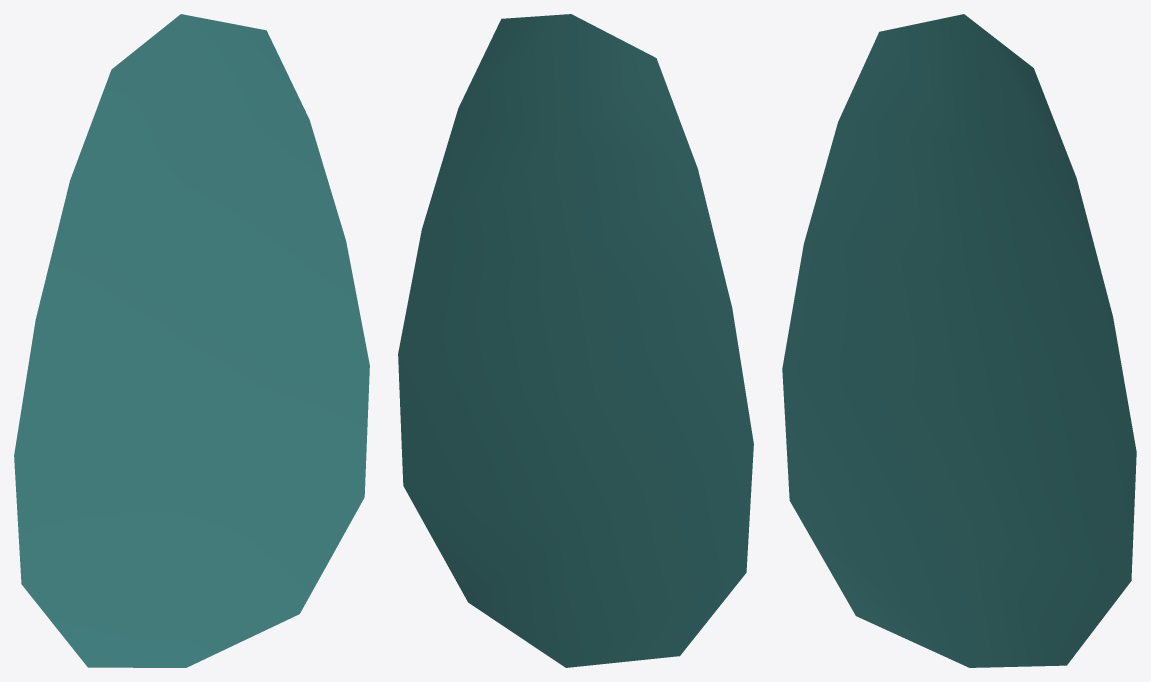
File: budgie_feather_flight_tertiary_043.obj
The picture shows the model from 3 angles, left to right: view 1: azimuth 30°, elevation 25°; view 2: azimuth 150°, elevation 25°; view 3: azimuth 330°, elevation 25°; orthographic projection.
Visible parts, largest first — view 1: feather_flight_tertiary_043; view 2: feather_flight_tertiary_043; view 3: feather_flight_tertiary_043.
Boxes of the visible parts, x1,y1,x2,y2 form: feather_flight_tertiary_043: (14, 14, 369, 667); feather_flight_tertiary_043: (398, 14, 753, 667); feather_flight_tertiary_043: (782, 14, 1136, 667).
Bounding box in the file's own units: 0.00839 × 0.0148 × 0.000322.
